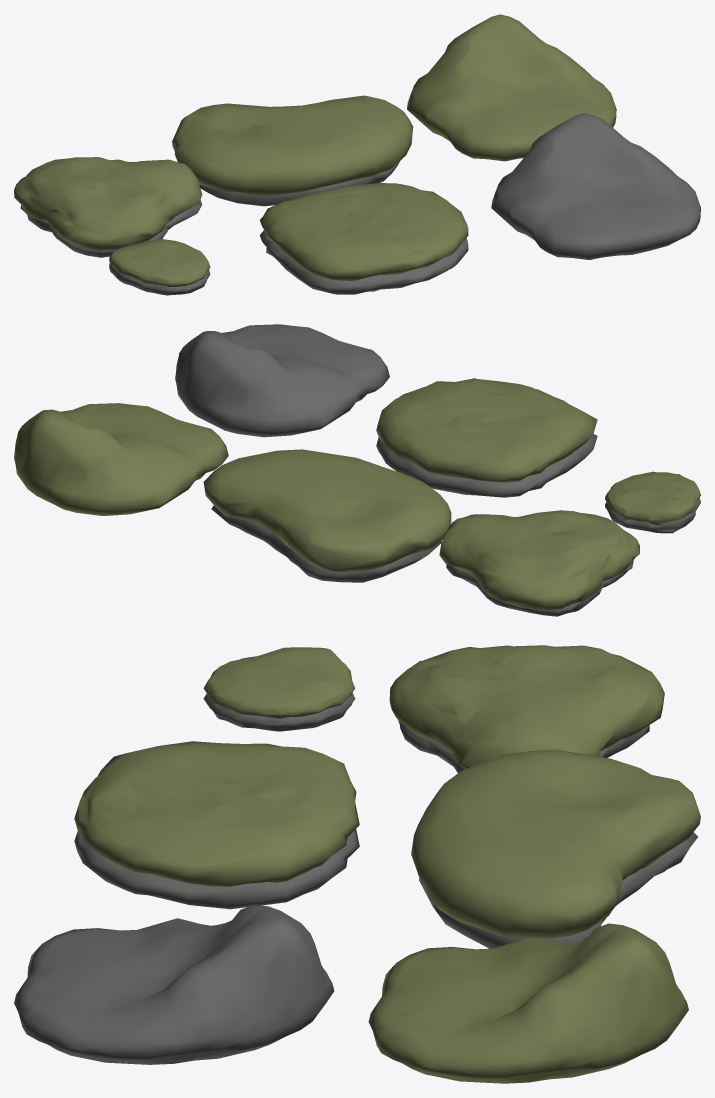
Rendered from Islands_04.fbx.
3 renders of one model, top to bottom at view 1: azimuth 30°, elevation 25°; view 2: azimuth 150°, elevation 25°; view 3: azimuth 270°, elevation 25°, orthographic. The views are drawn at different scales.
Parts seen in each view (by area): view 1: Ö9, pCube36, Ö2, pCube33, pCube35, Ö10, pCube42, pCube37, pCube38, Ö8; view 2: pCube36, Ö2, Ö9, pCube33, pCube35, Ö10, pCube42, pCube37, pCube38, Ö8; view 3: pCube36, Ö9, Ö2, pCube33, pCube35, Ö10, pCube42, pCube37, Ö8, pCube38.
Boxes of the visible parts, x1,y1,x2,y2 form: Ö9: (491, 113, 700, 259); pCube36: (172, 95, 413, 195); Ö2: (407, 14, 616, 161); pCube33: (260, 183, 468, 280); pCube35: (14, 157, 202, 251); Ö10: (109, 239, 210, 286); pCube42: (259, 230, 468, 294); pCube37: (199, 161, 399, 206); pCube38: (20, 200, 202, 257); Ö8: (109, 263, 210, 295); pCube36: (203, 449, 451, 571); Ö2: (14, 403, 228, 515); Ö9: (175, 324, 389, 437); pCube33: (376, 378, 597, 482); pCube35: (439, 510, 639, 610); Ö10: (605, 471, 700, 524); pCube42: (376, 434, 597, 497); pCube37: (211, 505, 441, 582); pCube38: (446, 560, 633, 616); Ö8: (605, 498, 700, 533); pCube36: (411, 749, 700, 937); Ö9: (14, 904, 334, 1064); Ö2: (368, 923, 688, 1083); pCube33: (74, 741, 359, 886); pCube35: (389, 645, 664, 769); Ö10: (203, 647, 355, 718); pCube42: (74, 829, 359, 909); pCube37: (419, 832, 697, 948); Ö8: (203, 692, 355, 731); pCube38: (398, 720, 649, 772).
Bounding box in the file's own units: 56.25 × 8.3 × 40.06.
